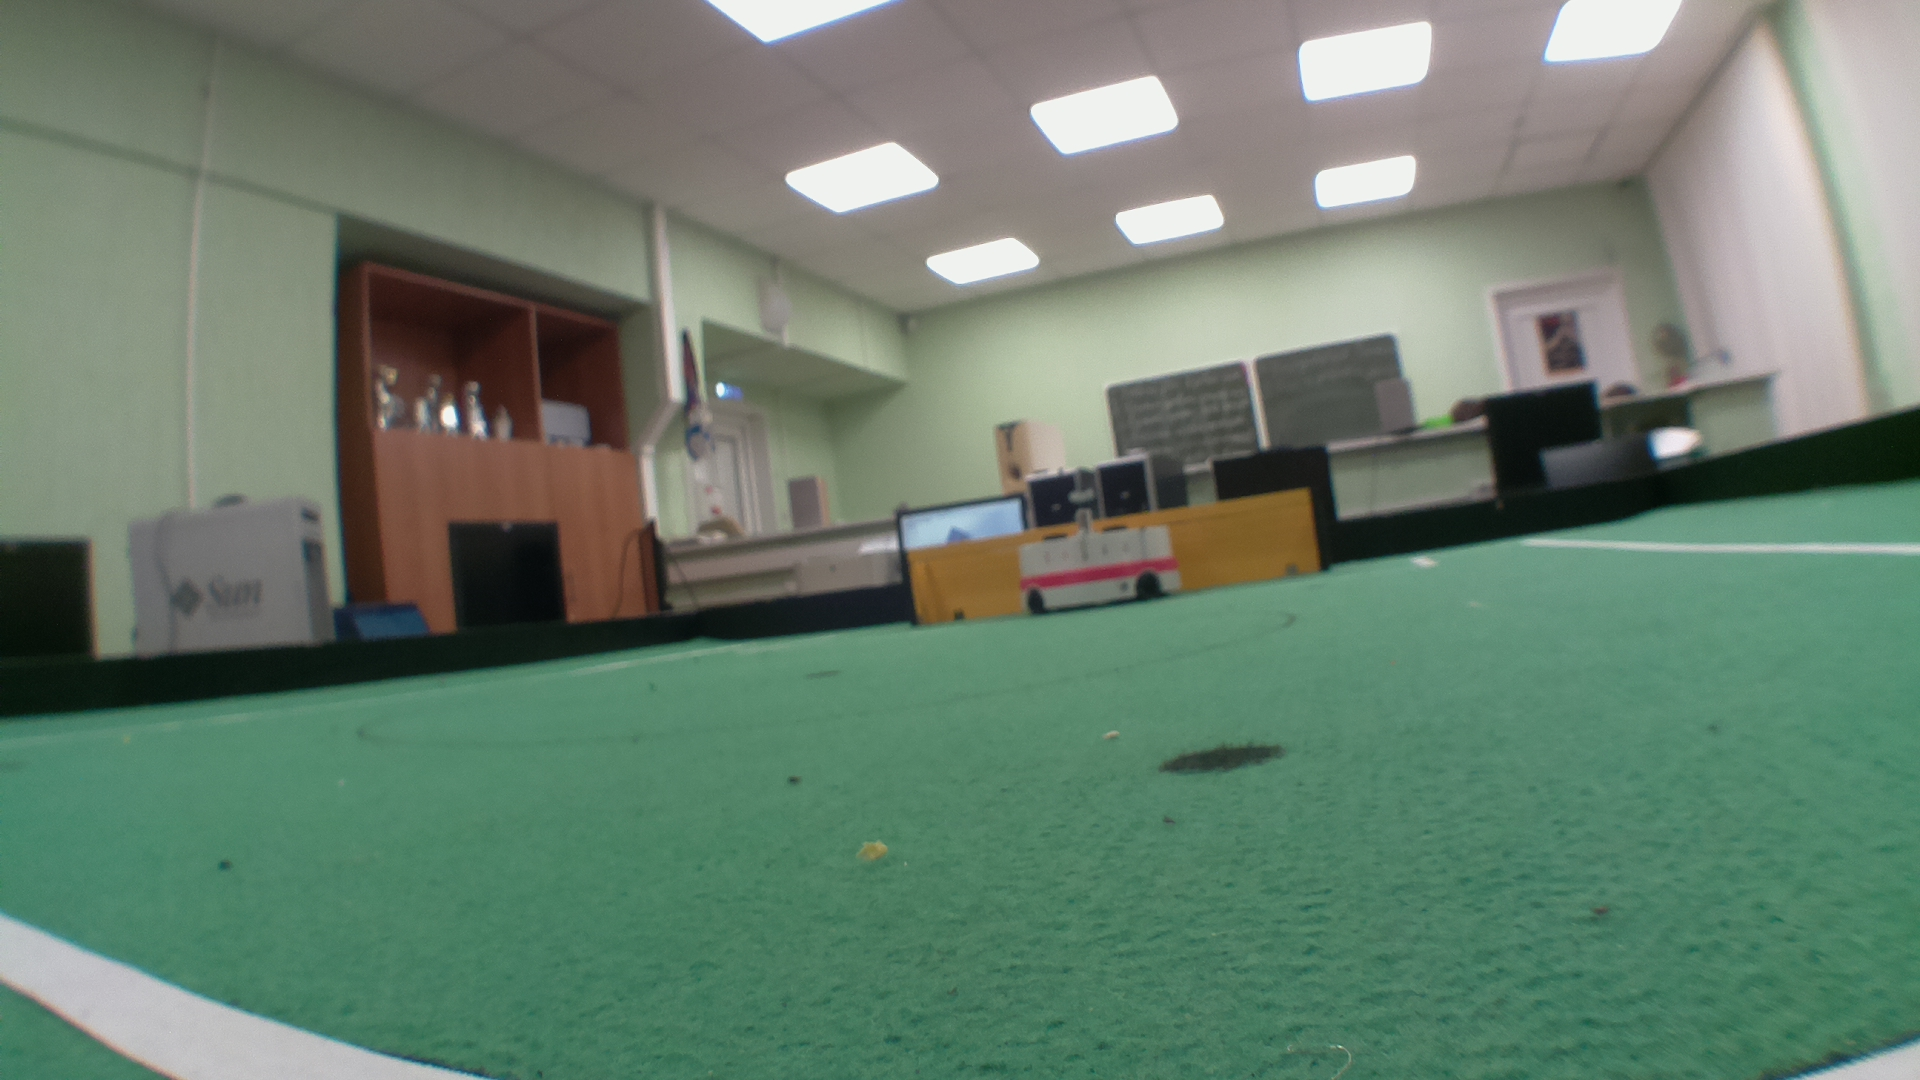YellowGoal: (915, 512, 1315, 600)
